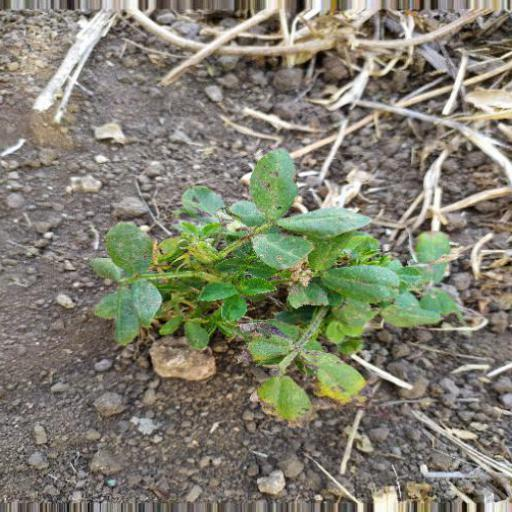weed: (77, 147, 464, 415)
